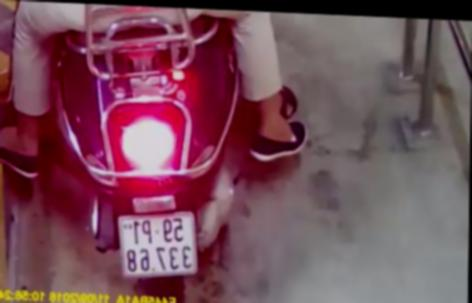License_Plate: (105, 202, 204, 285)
